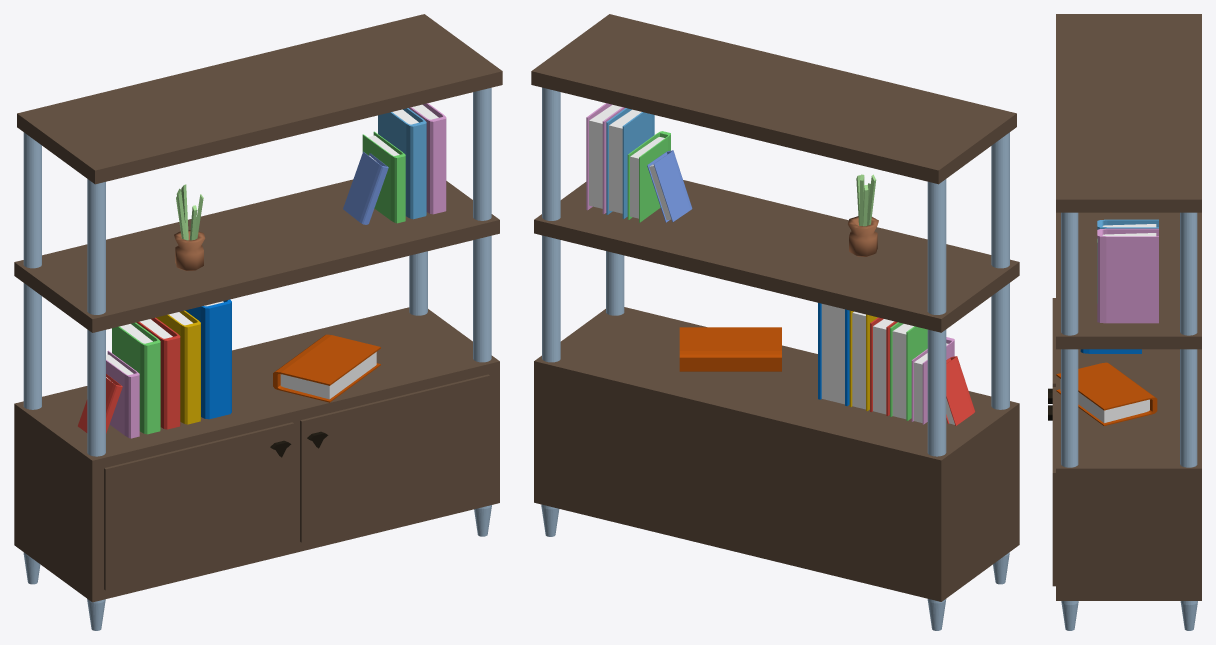
File: shelf_large.fbx
3 renders of one model, left to right at view 1: azimuth 30°, elevation 25°; view 2: azimuth 150°, elevation 25°; view 3: azimuth 270°, elevation 25°, orthographic. The views are drawn at different scales.
Visible parts, largest first — view 1: shelf, books, stands, Cylinder.002, Cylinder.001, dek1, Cylinder; view 2: shelf, books, Cylinder.001, Cylinder, stands, dek1, Cylinder.002; view 3: shelf, books, Cylinder, Cylinder.002, Cylinder.005, Cylinder.006.
Boxes of the visible parts, bbox=[...] form: shelf: bbox=[14, 14, 502, 602]; books: bbox=[78, 103, 446, 438]; stands: bbox=[87, 179, 105, 456]; Cylinder.002: bbox=[473, 87, 491, 362]; Cylinder.001: bbox=[23, 132, 41, 409]; dek1: bbox=[174, 184, 205, 271]; Cylinder: bbox=[409, 251, 427, 315]; shelf: bbox=[531, 14, 1019, 601]; books: bbox=[586, 103, 975, 425]; Cylinder.001: bbox=[927, 179, 946, 456]; Cylinder: bbox=[542, 87, 560, 362]; stands: bbox=[991, 132, 1009, 409]; dek1: bbox=[848, 174, 878, 256]; Cylinder.002: bbox=[606, 251, 624, 315]; shelf: bbox=[1052, 14, 1201, 600]; books: bbox=[1056, 219, 1158, 425]; Cylinder: bbox=[1180, 212, 1197, 467]; Cylinder.002: bbox=[1061, 212, 1078, 467]; Cylinder.005: bbox=[1061, 601, 1078, 630]; Cylinder.006: bbox=[1180, 601, 1197, 630].
Size of the model in its own units: 606 by 658 by 211.
